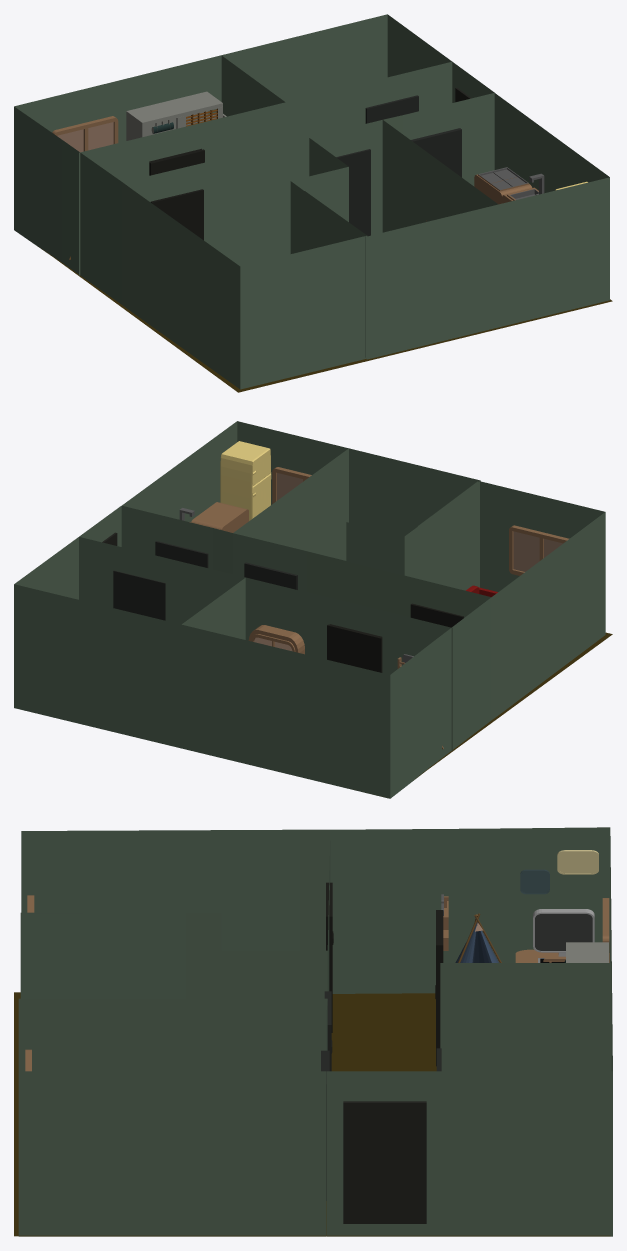
The model's file is House.fbx.
3 renders of one model, top to bottom at view 1: azimuth 30°, elevation 25°; view 2: azimuth 150°, elevation 25°; view 3: azimuth 270°, elevation 25°, orthographic. The views are drawn at different scales.
Visible parts, largest first — view 1: HouseOutline, Kapalı Kapılar, Yatak, Cupboards, Floor, Pencere, Kapı.001, Kapı.002; view 2: HouseOutline, Kapalı Kapılar, Buzdolabı, Kapı.002, Pencere.001, Cupboards, Dolap, Pencere.002, Kapı.001, Floor; view 3: HouseOutline, Floor, Kapı.003, PC, Cadir, Resim, Yatak, Kapı.002, Kapalı Kapılar, Resim.001, Kapı.001.
Part boxes in pixels (x1,y1,x2,y2): HouseOutline: [14, 14, 609, 389]; Kapalı Kapılar: [336, 95, 461, 236]; Yatak: [126, 91, 222, 140]; Cupboards: [474, 167, 544, 204]; Floor: [38, 246, 612, 392]; Pencere: [52, 116, 118, 152]; Kapı.001: [150, 189, 203, 240]; Kapı.002: [149, 148, 204, 175]; HouseOutline: [14, 421, 605, 798]; Kapalı Kapılar: [113, 541, 297, 620]; Buzdolabı: [220, 441, 271, 520]; Kapı.002: [327, 624, 382, 672]; Pencere.001: [509, 525, 569, 575]; Cupboards: [179, 502, 248, 532]; Dolap: [248, 625, 304, 654]; Pencere.002: [272, 467, 311, 503]; Kapı.001: [410, 603, 463, 627]; Floor: [381, 632, 612, 796]; HouseOutline: [18, 827, 612, 1236]; Floor: [14, 992, 610, 1236]; Kapı.003: [343, 1101, 426, 1223]; PC: [533, 909, 594, 956]; Cadir: [455, 913, 501, 962]; Resim: [557, 850, 598, 874]; Yatak: [564, 942, 608, 962]; Kapı.002: [435, 910, 443, 1066]; Kapalı Kapılar: [321, 991, 441, 1200]; Resim.001: [520, 869, 549, 894]; Kapı.001: [326, 882, 333, 1032].
Size of the model in its own units: 5546 by 1738 by 5710.
